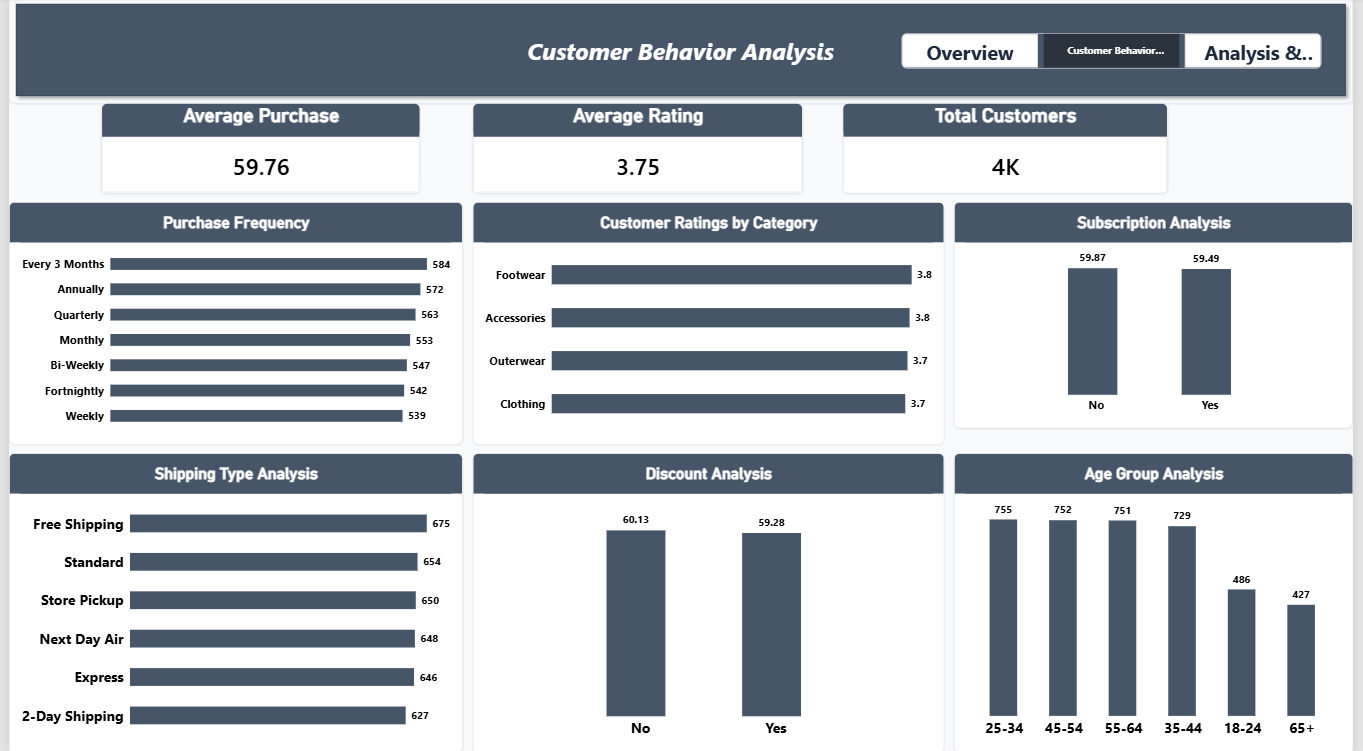

Layout of this report page (visuals, bound fields, positions):
{"tool":"powerbi","page":{"name":"Customer Behavior Analysis","canvas":[1920,1080],"ordinal":1},"visuals":[{"type":"shape","box":[0,0,1919.7,151.8],"z":0},{"type":"cardVisual","title":"Average Purchase","fields":{"Data":["cleaned_Customer_Shopping.Average Purchase"]},"box":[132.1,151.8,455.4,128.6],"z":1000},{"type":"cardVisual","title":"Average Rating","fields":{"Data":["cleaned_Customer_Shopping.Average Rating"]},"box":[662.5,151.8,471.4,128.6],"z":2000},{"type":"cardVisual","title":"Total Customers","fields":{"Data":["cleaned_Customer_Shopping.Total Customers"]},"box":[1191.1,151.8,464.3,128.6],"z":3000},{"type":"clusteredBarChart","title":"Purchase Frequency","fields":{"Category":["cleaned_Customer_Shopping.Frequency of Purchases"],"Y":["CountNonNull(cleaned_Customer_Shopping.Customer ID)"]},"box":[0,292.9,648.2,346.4],"z":4000},{"type":"clusteredColumnChart","title":"Subscription Analysis","fields":{"Category":["cleaned_Customer_Shopping.Subscription Status"],"Y":["Avg(cleaned_Customer_Shopping.Purchase Amount (USD))"]},"box":[1350,292.9,569.6,323.2],"z":5000},{"type":"barChart","title":"Customer Ratings by Category","fields":{"Category":["cleaned_Customer_Shopping.Category"],"Y":["Avg(cleaned_Customer_Shopping.Review Rating)"]},"box":[662.5,292.9,673.2,346.4],"z":6000},{"type":"clusteredColumnChart","title":"Discount Analysis","fields":{"Category":["cleaned_Customer_Shopping.Discount Applied"],"Y":["Avg(cleaned_Customer_Shopping.Purchase Amount (USD))"]},"box":[662.5,651.8,673.2,428.6],"z":7000},{"type":"clusteredBarChart","title":"Shipping Type Analysis","fields":{"Category":["cleaned_Customer_Shopping.Shipping Type"],"Y":["CountNonNull(cleaned_Customer_Shopping.Customer ID)"]},"box":[0,652,648,428],"z":8000},{"type":"clusteredColumnChart","title":"Age Group Analysis","fields":{"Category":["cleaned_Customer_Shopping.Age Group"],"Y":["CountNonNull(cleaned_Customer_Shopping.Customer ID)"]},"box":[1350,652,570,428],"z":9000},{"type":"pageNavigator","box":[1275,51.8,600,50],"z":10000}]}

Visuals, with their boxes in screenshot pixels (x1, y1, x2, y2), scaled from the page's 1920x1080 canvas onto the 1363x751 screenshot:
shape: x1=0, y1=0, x2=1362, y2=106
"Average Purchase" cardVisual: x1=94, y1=106, x2=417, y2=195
"Average Rating" cardVisual: x1=470, y1=106, x2=805, y2=195
"Total Customers" cardVisual: x1=846, y1=106, x2=1175, y2=195
"Purchase Frequency" clusteredBarChart: x1=0, y1=204, x2=460, y2=445
"Subscription Analysis" clusteredColumnChart: x1=958, y1=204, x2=1362, y2=428
"Customer Ratings by Category" barChart: x1=470, y1=204, x2=948, y2=445
"Discount Analysis" clusteredColumnChart: x1=470, y1=453, x2=948, y2=750
"Shipping Type Analysis" clusteredBarChart: x1=0, y1=453, x2=460, y2=750
"Age Group Analysis" clusteredColumnChart: x1=958, y1=453, x2=1362, y2=750
pageNavigator: x1=905, y1=36, x2=1331, y2=71
